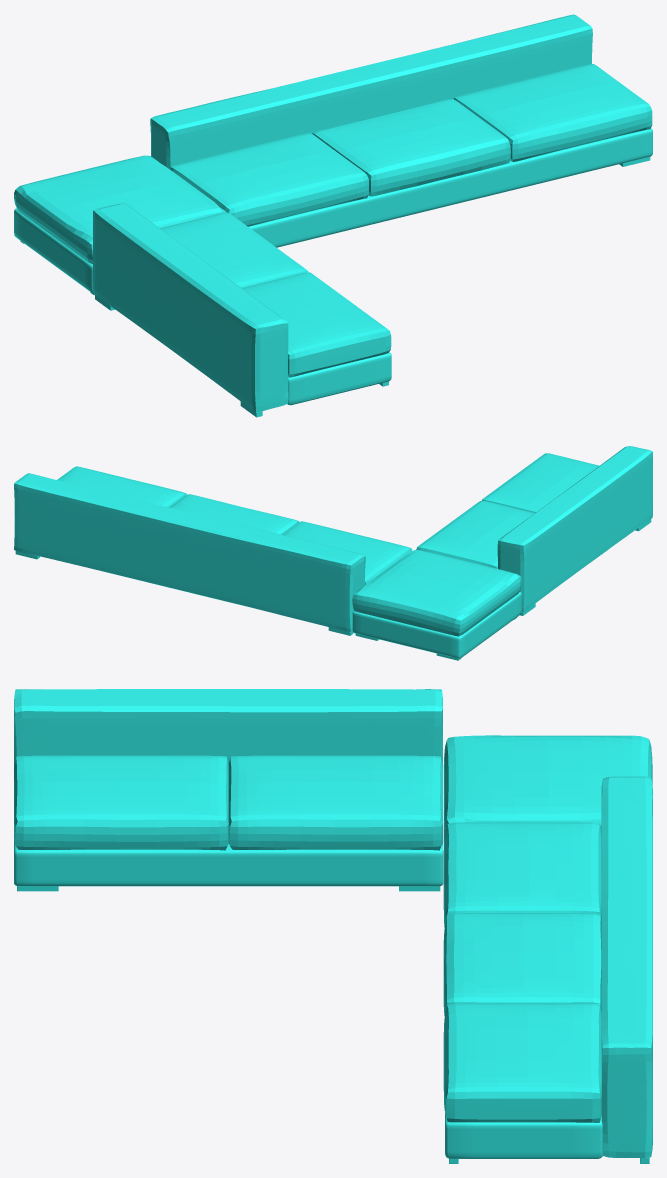
Rendered from SopaAll_low.fbx.
The picture shows the model from 3 angles, top to bottom: view 1: azimuth 30°, elevation 25°; view 2: azimuth 150°, elevation 25°; view 3: azimuth 270°, elevation 25°; orthographic projection. The views are drawn at different scales.
Parts seen in each view (by area): view 1: Object002_low, Object003_low, Object005_low; view 2: Object003_low, Object002_low, Object005_low, Object004_low; view 3: Object002_low, Object003_low, Object005_low.
Part boxes in pixels (x1=…): Object002_low: x1=14, y1=64, x2=652, y2=377; Object003_low: x1=93, y1=14, x2=592, y2=412; Object005_low: x1=14, y1=128, x2=652, y2=405; Object003_low: x1=14, y1=446, x2=652, y2=631; Object002_low: x1=57, y1=453, x2=599, y2=636; Object005_low: x1=352, y1=592, x2=521, y2=658; Object004_low: x1=15, y1=519, x2=651, y2=660; Object002_low: x1=14, y1=735, x2=652, y2=1122; Object003_low: x1=14, y1=689, x2=652, y2=1157; Object005_low: x1=14, y1=829, x2=602, y2=1158.
Size of the model in its own units: 156 by 24.02 by 117.
